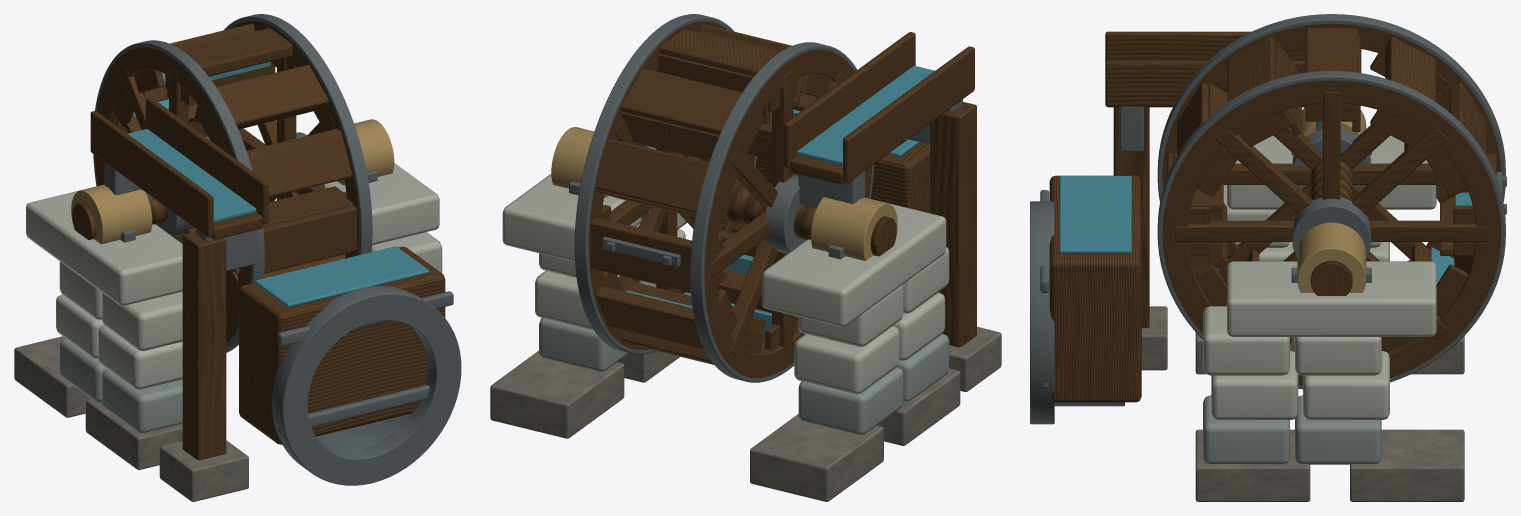
File: stone-water-wheel-v1.glb
3 views of the same model, side by side, from view 1: azimuth 30°, elevation 25°; view 2: azimuth 150°, elevation 25°; view 3: azimuth 270°, elevation 25° (orthographic). The views are drawn at different scales.
Parts seen in each view (by area): view 1: Outlet | timber collection box, Outlet | canonical collar, Discharge | landward upright support, Masonry | continuous bearing cap, Discharge | race side rail, Outlet | collection water surface, Outlet | canonical full bore throat, Scoop 05 | radial back, Scoop 04 | radial back, Scoop 06 | radial back, Discharge | race side rail.001, Rim | segmented timber annulus (+32 smaller); view 2: Masonry | continuous bearing cap, Discharge | landward upright support, Footing | isolated structural pad.003, Footing | isolated structural pad.001, Rim | segmented timber annulus, Discharge | race side rail, Rim | forged external retaining band, Rim | forged external retaining band.001, Scoop 01 | radial back, Discharge | race side rail.001, Masonry | continuous bearing cap.001, Masonry | fitted bearing pier.003 (+38 smaller); view 3: Rim | segmented timber annulus.001, Outlet | timber collection box, Masonry | continuous bearing cap.001, Footing | isolated structural pad.003, Rim | forged external retaining band.001, Outlet | collection water surface, Outlet | canonical collar, Footing | isolated structural pad.002, Rim | forged external retaining band, Discharge | race side rail.001, Masonry | fitted bearing pier.009, Masonry | fitted bearing pier.010 (+46 smaller).
Boxes of the visible parts, box(x1,y1,x2,y2) form: Outlet | timber collection box: box(239, 246, 445, 444); Outlet | canonical collar: box(272, 286, 461, 485); Discharge | landward upright support: box(182, 231, 226, 460); Masonry | continuous bearing cap: box(26, 190, 182, 305); Discharge | race side rail: box(90, 111, 213, 237); Outlet | collection water surface: box(255, 246, 429, 307); Outlet | canonical full bore throat: box(298, 310, 444, 469); Scoop 05 | radial back: box(247, 130, 352, 197); Scoop 04 | radial back: box(216, 64, 328, 129); Scoop 06 | radial back: box(263, 205, 357, 273); Discharge | race side rail.001: box(145, 97, 268, 224); Rim | segmented timber annulus: box(95, 47, 251, 343); Masonry | continuous bearing cap: box(762, 203, 946, 326); Discharge | landward upright support: box(930, 102, 976, 347); Footing | isolated structural pad.003: box(490, 351, 624, 438); Footing | isolated structural pad.001: box(750, 414, 883, 501); Rim | segmented timber annulus: box(704, 49, 872, 378); Discharge | race side rail: box(843, 46, 974, 182); Rim | forged external retaining band: box(690, 42, 874, 382); Rim | forged external retaining band.001: box(574, 14, 756, 354); Scoop 01 | radial back: box(596, 138, 708, 213); Discharge | race side rail.001: box(783, 32, 915, 167); Masonry | continuous bearing cap.001: box(502, 174, 641, 261); Masonry | fitted bearing pier.003: box(794, 326, 899, 393); Rim | segmented timber annulus.001: box(1162, 80, 1501, 385); Outlet | timber collection box: box(1049, 175, 1141, 402); Masonry | continuous bearing cap.001: box(1227, 261, 1436, 336); Footing | isolated structural pad.003: box(1350, 429, 1464, 501); Rim | forged external retaining band.001: box(1157, 71, 1505, 389); Outlet | collection water surface: box(1059, 176, 1131, 253); Outlet | canonical collar: box(1030, 201, 1054, 424); Footing | isolated structural pad.002: box(1195, 429, 1310, 501); Rim | forged external retaining band: box(1157, 14, 1505, 202); Discharge | race side rail.001: box(1105, 60, 1361, 106); Masonry | fitted bearing pier.009: box(1303, 351, 1389, 419); Masonry | fitted bearing pier.010: box(1203, 306, 1289, 375).
Bounding box in the file's own units: 1.22 × 1.26 × 1.45.
Materials: 7 (2 with a texture image).
